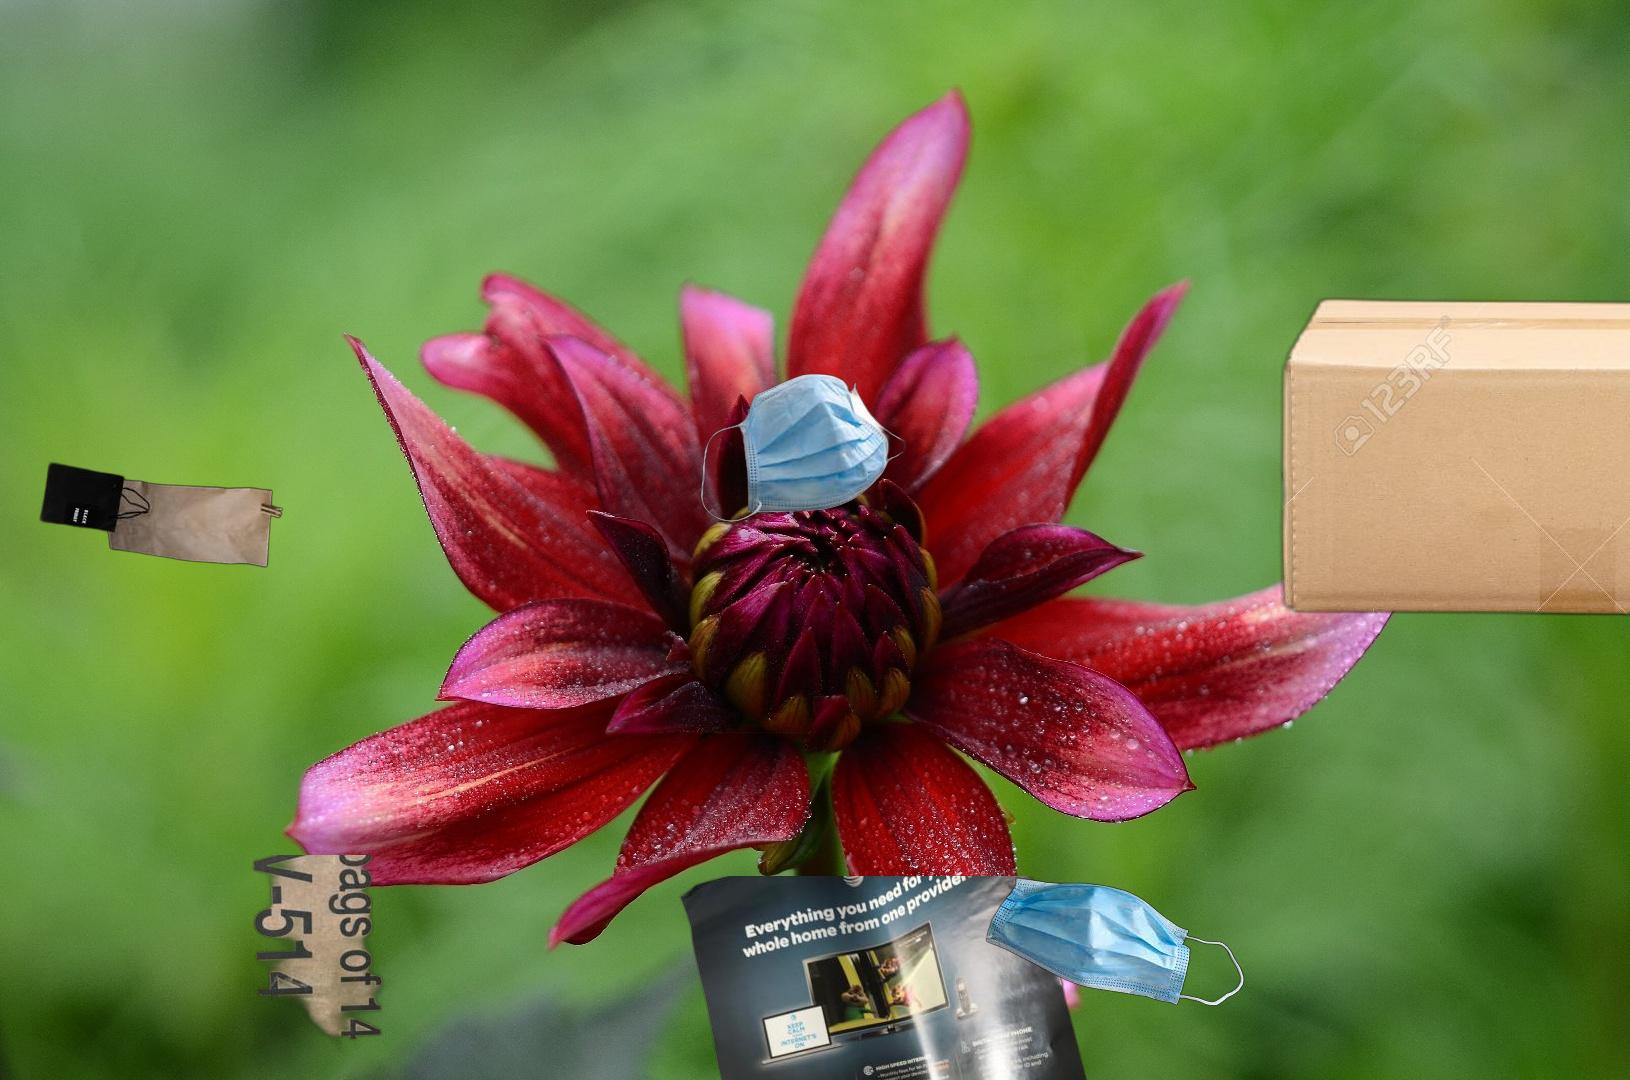paper: (677, 876, 1126, 1080)
paper-bag: (37, 460, 286, 569)
trash: (946, 871, 1246, 1009), (698, 371, 910, 526)
trashbox-cardboard: (1269, 290, 1630, 626), (249, 855, 441, 1080)
